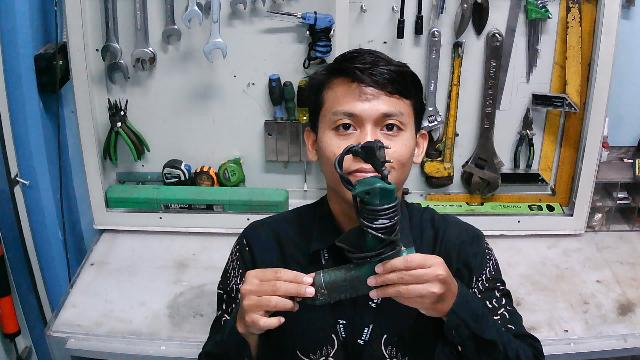gun_lem: (291, 139, 417, 312)
